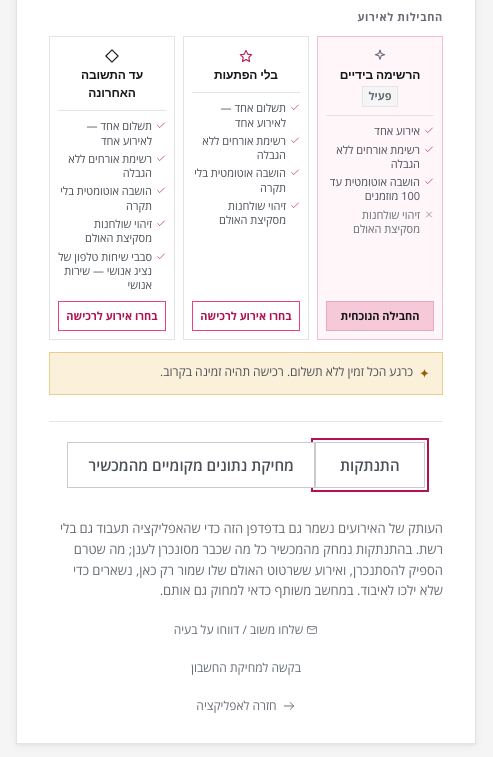
it: AccountScreen — signing out (37a) › stays on the screen and says so when the sign-out failed
(page scrolled)
Click the button "התנתקות" at (370, 465), box [315, 442, 424, 488]
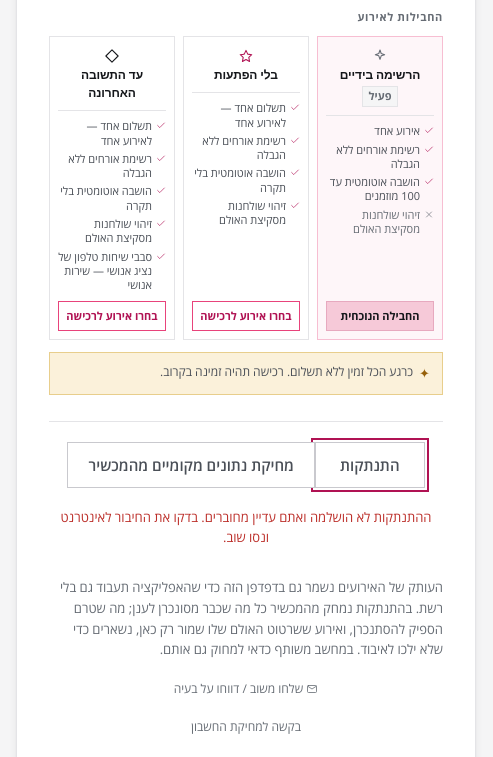
Now the message shows "עדיין מחוברים", box [60, 508, 432, 546]
